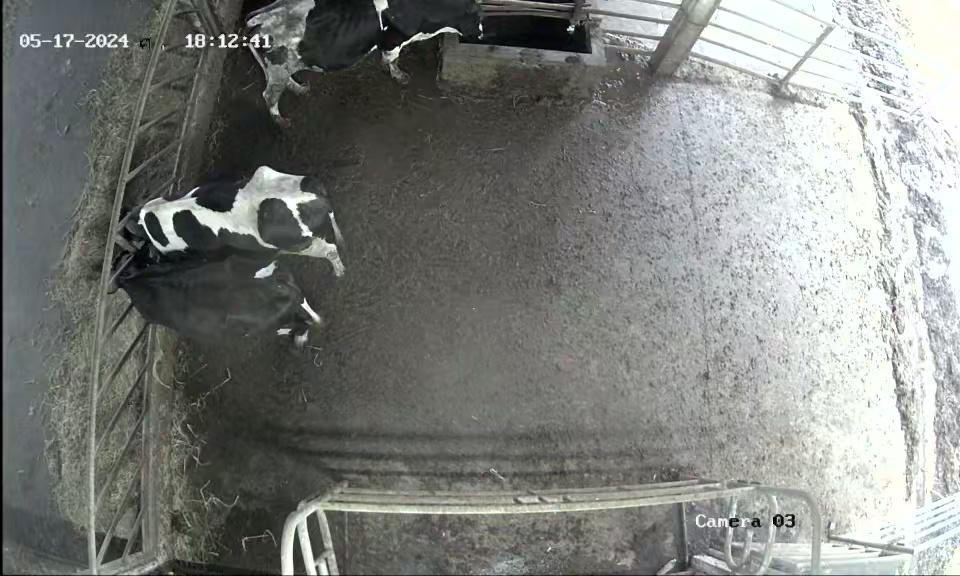drink: (418, 0, 505, 92)
eat: (79, 258, 196, 333), (89, 190, 187, 256)
